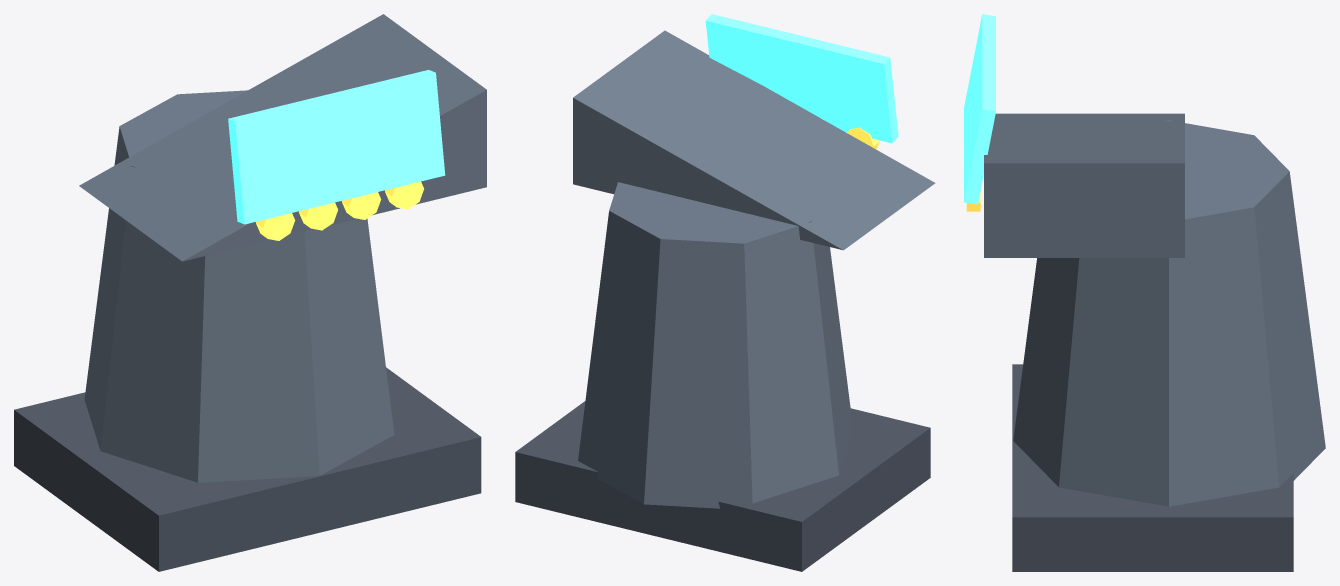
The model's file is AXM-CONSOLE-001_LOD2.glb.
3 renders of one model, left to right at view 1: azimuth 30°, elevation 25°; view 2: azimuth 150°, elevation 25°; view 3: azimuth 270°, elevation 25°, orthographic. The views are drawn at different scales.
Parts seen in each view (by area): view 1: pedestal, base, panel, screen, button__l01, button__l02, button__l00, button__l03; view 2: pedestal, panel, base, screen; view 3: pedestal, panel, base, screen.
Boxes of the visible parts, x1=… form: pedestal: x1=84, y1=90, x2=394, y2=482; base: x1=14, y1=367, x2=481, y2=571; panel: x1=79, y1=14, x2=486, y2=261; screen: x1=228, y1=70, x2=445, y2=224; button__l01: x1=299, y1=202, x2=337, y2=230; button__l02: x1=342, y1=192, x2=381, y2=219; button__l00: x1=256, y1=213, x2=295, y2=240; button__l03: x1=385, y1=181, x2=423, y2=209; pedestal: x1=578, y1=182, x2=853, y2=508; panel: x1=573, y1=30, x2=935, y2=250; base: x1=515, y1=401, x2=930, y2=571; screen: x1=705, y1=14, x2=898, y2=143; pedestal: x1=1013, y1=120, x2=1325, y2=506; panel: x1=984, y1=113, x2=1184, y2=257; base: x1=1012, y1=364, x2=1293, y2=571; screen: x1=964, y1=14, x2=995, y2=204.
Size of the model in its own units: 0.9 by 1.19 by 0.8998.
